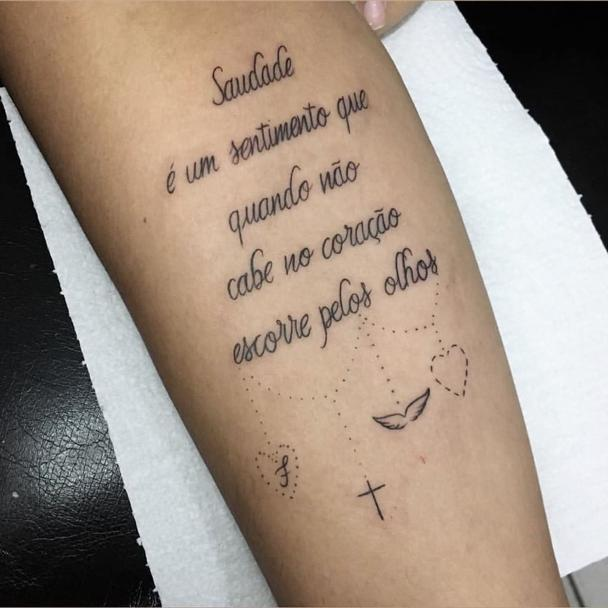tattoos: (165, 44, 470, 520)
